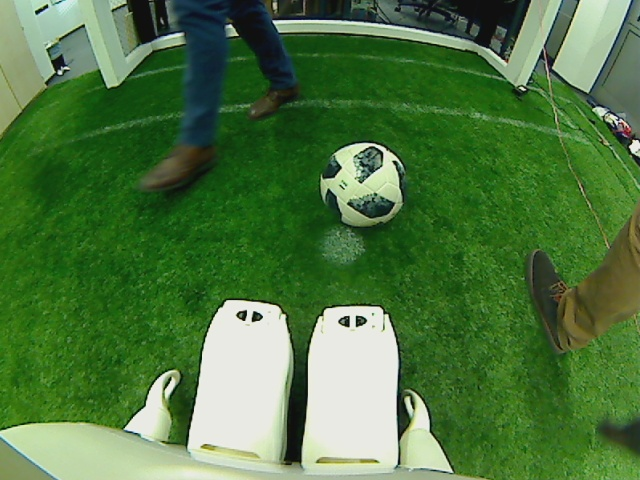ball: (323, 137, 405, 230)
